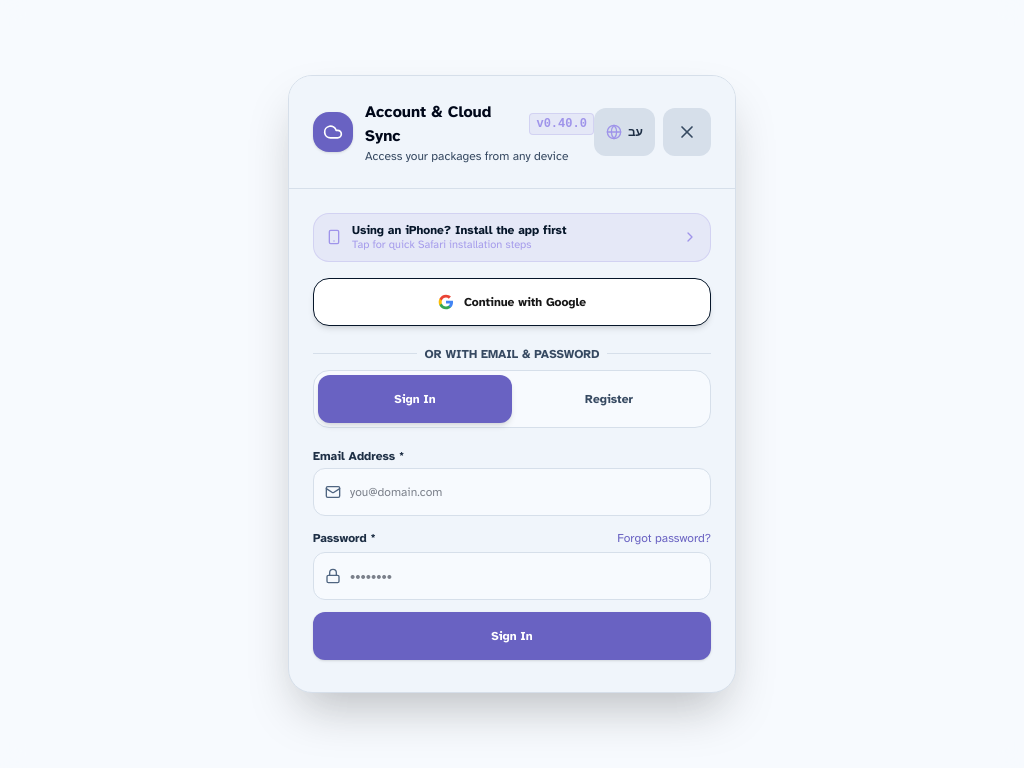
Test: AuthModal (rendered) › install-first note › shows the install steps on demand
The width and height of the screenshot is (1024, 768).
Expected: the text "Tap for quick Safari installation steps" is shown, [352,238,532,251]
Click the button "Install the app first": (512, 238) [313,213,711,262]
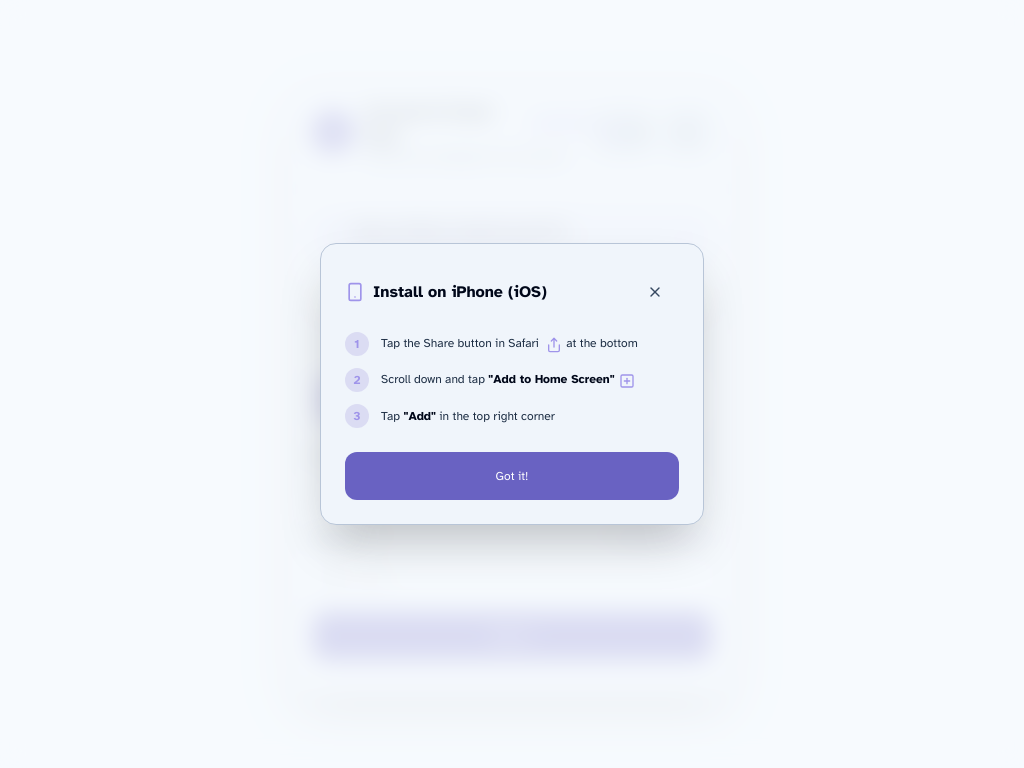
Expected: the text "\"Add to Home Screen\"" is shown, [488,372,615,386]
